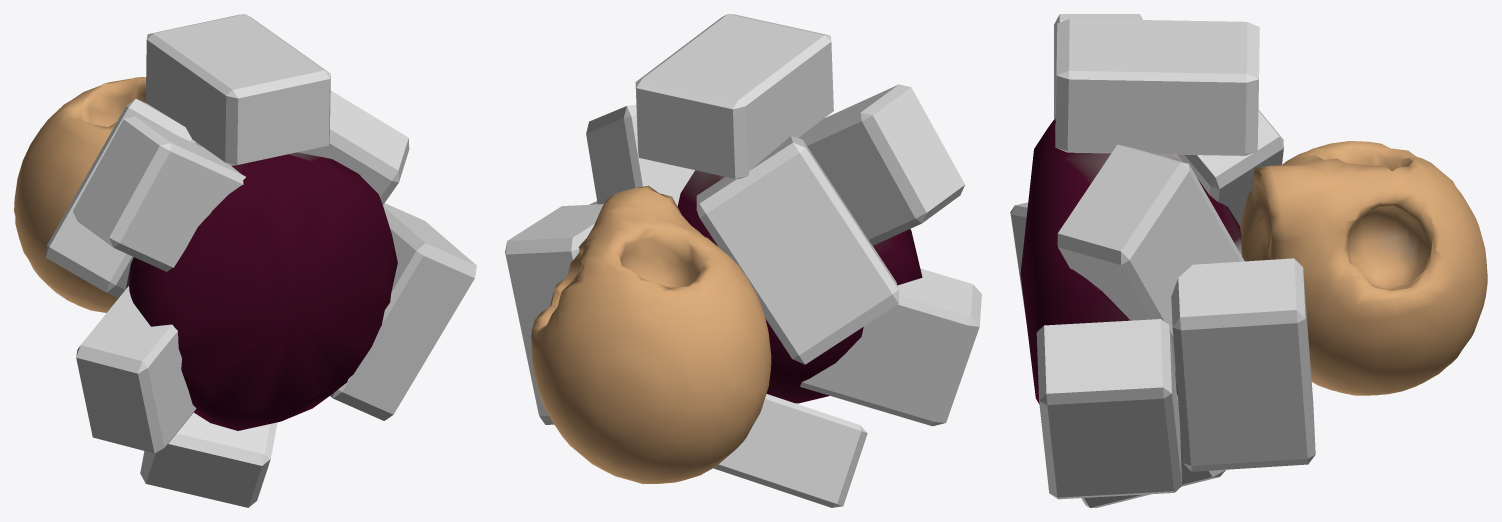
File: Rubble1.fbx
The picture shows the model from 3 angles, left to right: view 1: azimuth 30°, elevation 25°; view 2: azimuth 150°, elevation 25°; view 3: azimuth 270°, elevation 25°; orthographic projection. The views are drawn at different scales.
Visible parts, largest first — view 1: Skull.001; view 2: Skull.001; view 3: Skull.001.
Boxes of the visible parts, <box> form: Skull.001: <box>14,14,476,507</box>; Skull.001: <box>505,14,981,507</box>; Skull.001: <box>1010,14,1487,507</box>.
Size of the model in its own units: 1.12 by 1.19 by 1.08.
